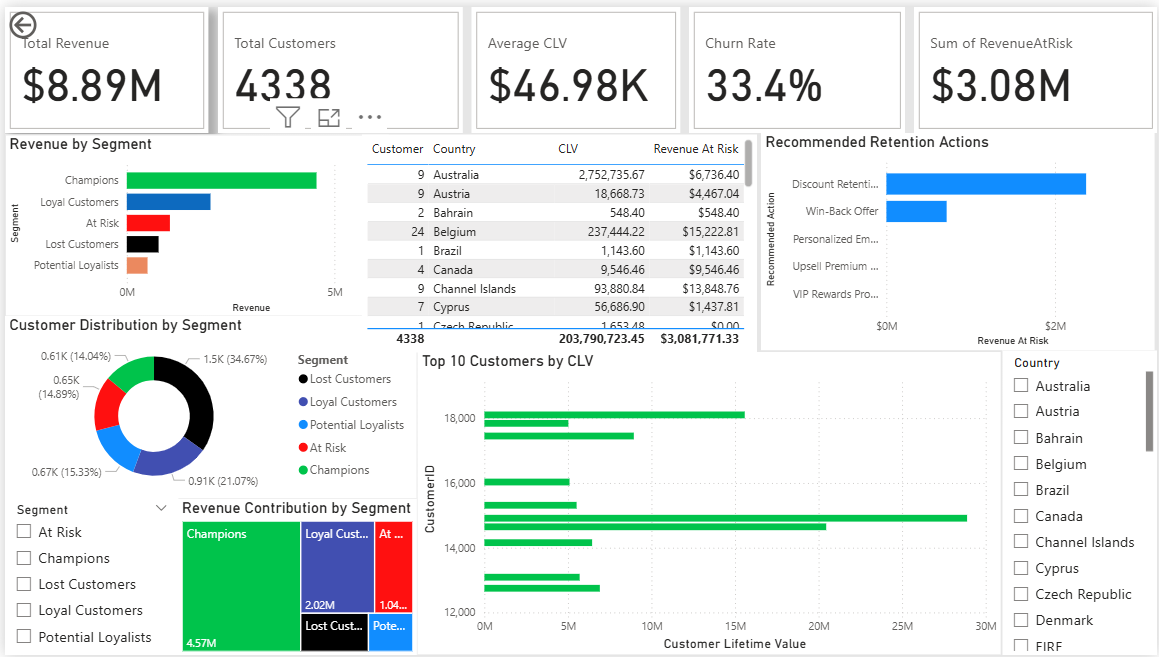

This screenshot's page, from the dashboard's own definition file:
{"tool":"powerbi","page":{"name":"Page 1","canvas":[1280,720],"ordinal":0},"visuals":[{"type":"cardVisual","fields":{"Data":["E-commerce.Total Revenue"]},"box":[0,0,226,140],"z":0},{"type":"cardVisual","fields":{"Data":["E-commerce.Average CLV"]},"box":[518,0,232,140],"z":1000},{"type":"cardVisual","fields":{"Data":["E-commerce.Churn Rate"]},"box":[760,0,240,140],"z":2000},{"type":"cardVisual","fields":{"Data":["E-commerce.Total Customers"]},"box":[236,0,272,140],"z":3000},{"type":"clusteredBarChart","fields":{"Category":["rfm_results.Segment"],"Y":["Sum(rfm_results.Monetary)"]},"box":[0,140.9,425.9,202.4],"z":4000},{"type":"donutChart","fields":{"Category":["rfm_results.Segment"],"Y":["Count(rfm_results.CustomerID)"]},"box":[0,342.5,457.5,202.5],"z":5000},{"type":"tableEx","fields":{"Values":["CountNonNull(rfm_results.CustomerID)","rfm_results.Country","Sum(rfm_results.CLV)","Sum(rfm_results.RevenueAtRisk)"]},"box":[396.7,140.9,438.8,241.3],"z":6000},{"type":"slicer","fields":{"Values":["rfm_results.Country"]},"box":[1108,382,172,338],"z":7000},{"type":"slicer","fields":{"Values":["rfm_results.Segment"]},"box":[0,545,192.5,175],"z":8000},{"type":"clusteredBarChart","title":"Recommended Retention Actions","fields":{"Category":["rfm_results.RecommendedAction"],"Y":["Sum(rfm_results.RevenueAtRisk)"]},"box":[840.4,139.3,437.2,241.3],"z":9000},{"type":"cardVisual","fields":{"Data":["Sum(rfm_results.RevenueAtRisk)"]},"box":[1010,0,270,140],"z":10000},{"type":"actionButton","box":[0,0,100,40],"z":11000},{"type":"clusteredBarChart","title":"Top 10 Customers by CLV","fields":{"Category":["rfm_results.CustomerID"],"Y":["Sum(rfm_results.CLV)"]},"box":[458,384,648,336],"z":12000},{"type":"treemap","title":"Revenue Contribution by Segment","fields":{"Group":["rfm_results.Segment"],"Values":["Sum(rfm_results.Monetary)"]},"box":[192,546,266,174],"z":13000}]}

Visuals, with their boxes in screenshot pixels (x1, y1, x2, y2), scaled from the page's 1280x720 canvas onto the 1159x657 screenshot:
cardVisual - E-commerce.Total Revenue: bbox(0, 0, 205, 128)
cardVisual - E-commerce.Average CLV: bbox(469, 0, 679, 128)
cardVisual - E-commerce.Churn Rate: bbox(688, 0, 905, 128)
cardVisual - E-commerce.Total Customers: bbox(214, 0, 460, 128)
clusteredBarChart - rfm_results.Segment x Sum(rfm_results.Monetary): bbox(0, 129, 386, 313)
donutChart - rfm_results.Segment x Count(rfm_results.CustomerID): bbox(0, 313, 414, 497)
tableEx - CountNonNull(rfm_results.CustomerID) x rfm_results.Country: bbox(359, 129, 757, 349)
slicer - rfm_results.Country: bbox(1003, 349, 1158, 656)
slicer - rfm_results.Segment: bbox(0, 497, 174, 656)
"Recommended Retention Actions" clusteredBarChart: bbox(761, 127, 1157, 347)
cardVisual - Sum(rfm_results.RevenueAtRisk): bbox(915, 0, 1158, 128)
actionButton: bbox(0, 0, 91, 36)
"Top 10 Customers by CLV" clusteredBarChart: bbox(415, 350, 1001, 656)
"Revenue Contribution by Segment" treemap: bbox(174, 498, 415, 656)
